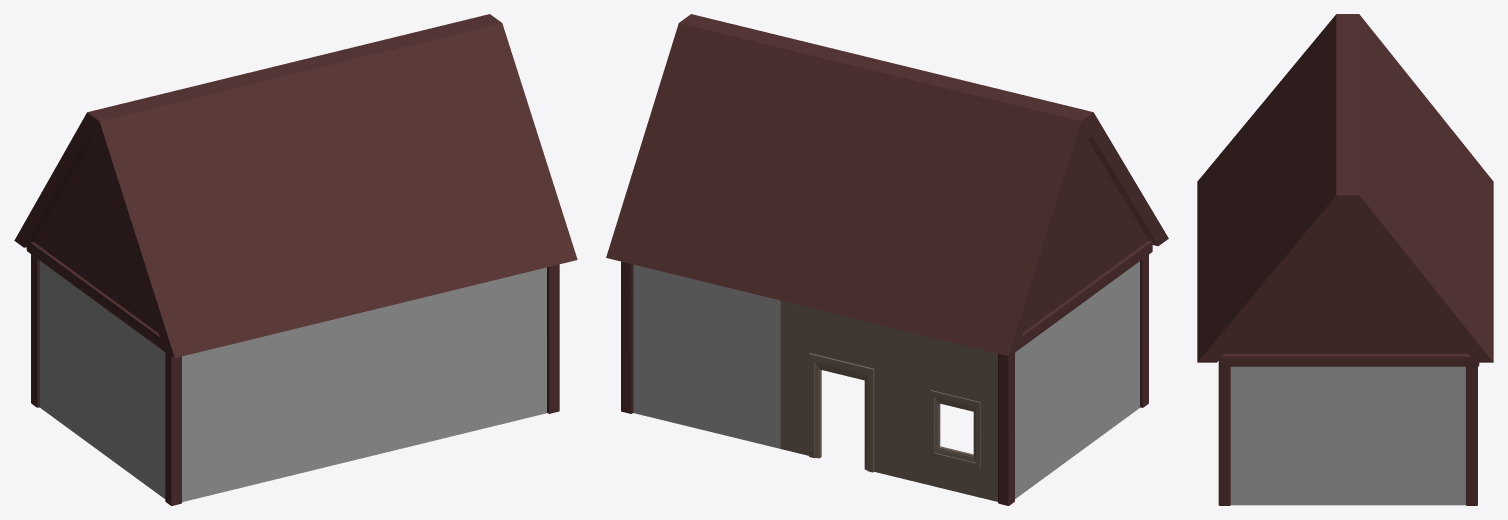
Rendered from ShackV2.fbx.
3 renders of one model, left to right at view 1: azimuth 30°, elevation 25°; view 2: azimuth 150°, elevation 25°; view 3: azimuth 270°, elevation 25°, orthographic. The views are drawn at different scales.
Visible parts, largest first — view 1: Shack; view 2: Shack; view 3: Shack.
Boxes of the visible parts, bbox=[...] form: Shack: bbox=[14, 14, 577, 505]; Shack: bbox=[606, 14, 1168, 505]; Shack: bbox=[1197, 14, 1493, 505].
Size of the model in its own units: 10.61 by 8.58 by 7.33.
